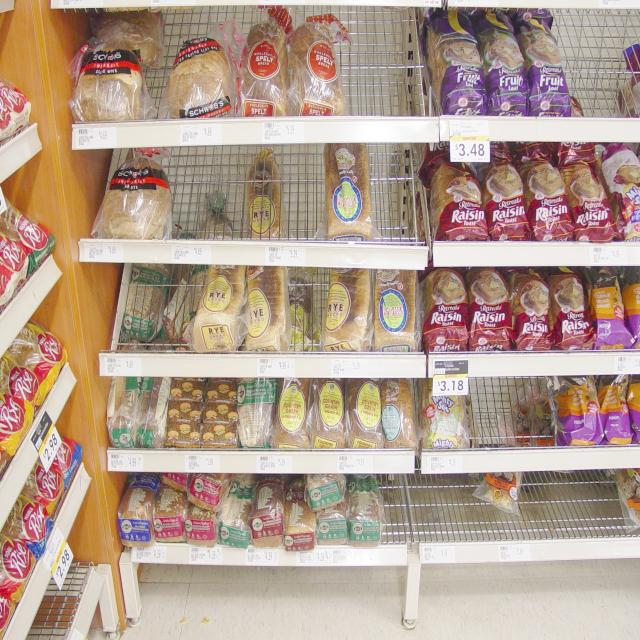empty_space: (188, 161, 312, 231), (348, 18, 404, 106), (534, 482, 616, 538), (397, 481, 471, 538), (571, 18, 621, 96), (481, 384, 551, 432), (377, 158, 411, 226)
